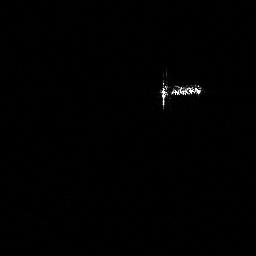ship: (157, 76, 205, 112)
